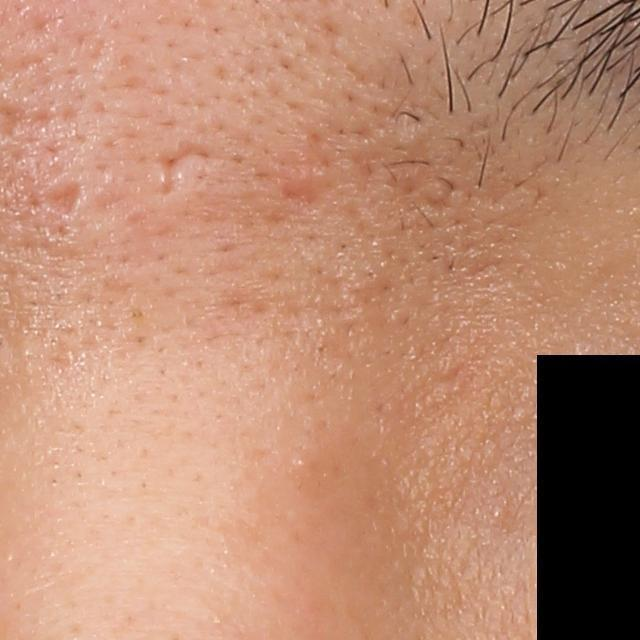atrophic_scar: (156, 142, 225, 198), (39, 180, 86, 219), (278, 183, 331, 216)
comedo: (288, 453, 311, 479)
